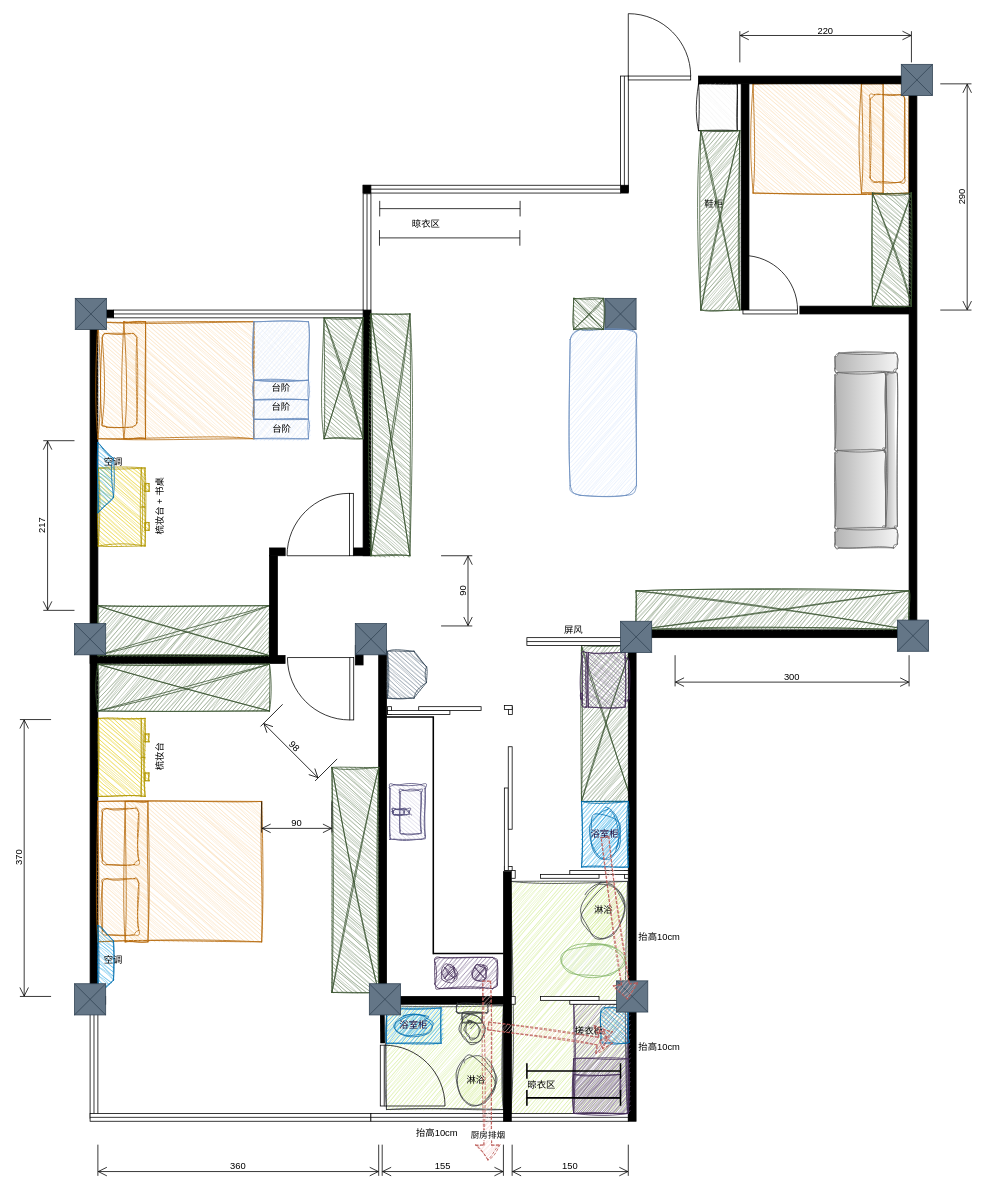
Image size: 985x1190. Some labels were removed from this diagram. Each missing label, with the centre of its shape:
"冰箱" goes at (x=604, y=679).
"换鞋区 小窗子" goes at (x=717, y=107).
"桌子" goes at (x=602, y=412).
"洗烘套装" goes at (x=596, y=1086).
"蹲便" goes at (x=593, y=960).
"锅炉" goes at (x=614, y=1025).
"饮水机" goes at (x=407, y=674).
